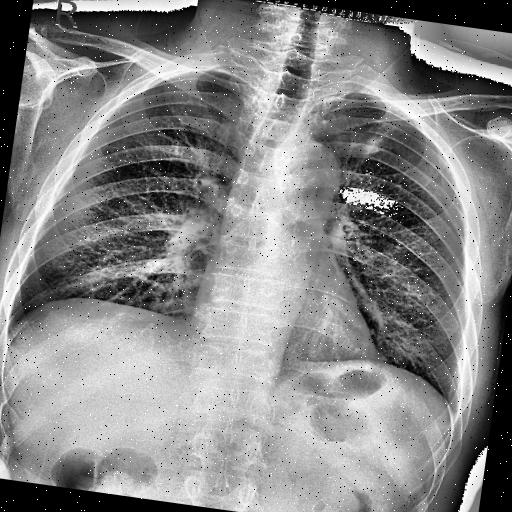0- Aortic enlargement: (265, 133, 346, 201), (274, 140, 344, 208), (277, 136, 343, 200)
13- Pulmonary fibrosis: (362, 134, 382, 156)
7- Lung Opacity: (354, 132, 390, 156)
9- Other lesion: (362, 134, 382, 156)
